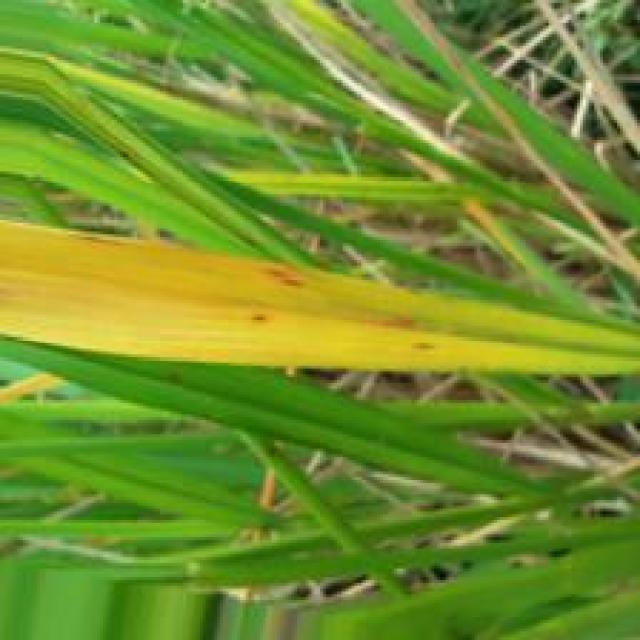Narrow_Brown_Leaf_Spot: (0, 222, 456, 370)
